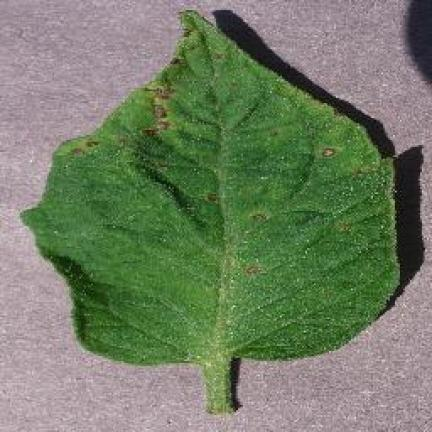leaf: (182, 29, 191, 35)
